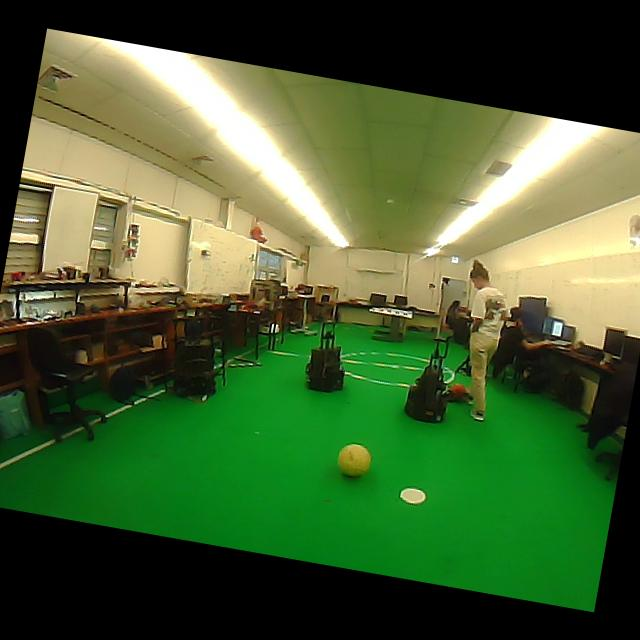ball: (337, 443, 371, 476), (446, 382, 471, 402)
robot: (404, 337, 447, 422), (305, 319, 344, 391), (172, 339, 215, 396)
